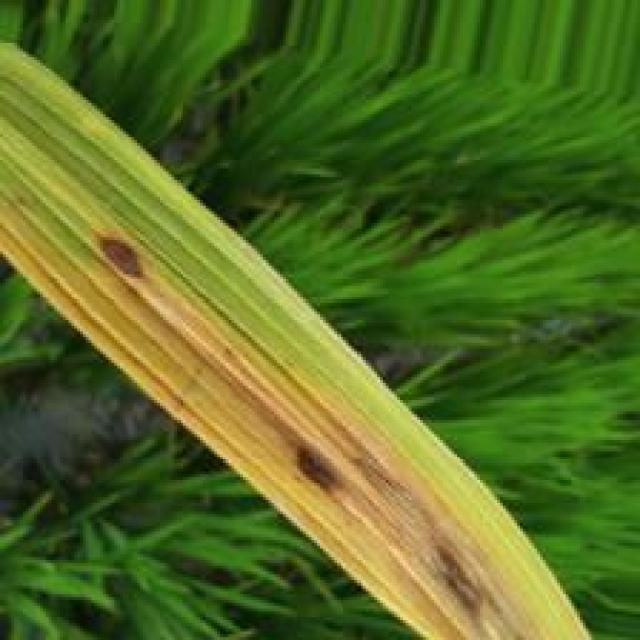Brown_Spot: (427, 533, 493, 621), (294, 438, 356, 503), (86, 232, 152, 282), (349, 450, 406, 507)
